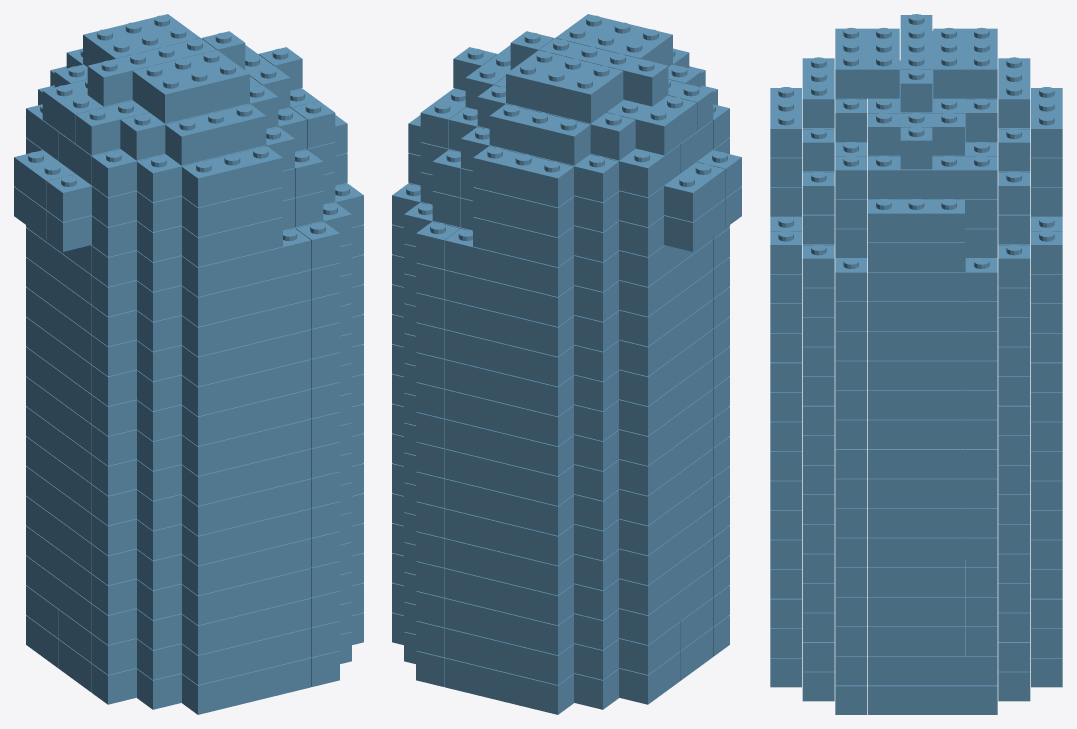
Rendered from 236_tower_L1.glb.
The picture shows the model from 3 angles, left to right: view 1: azimuth 30°, elevation 25°; view 2: azimuth 150°, elevation 25°; view 3: azimuth 270°, elevation 25°; orthographic projection.
Size of the model in its own units: 9.98 by 20.13 by 8.98.
